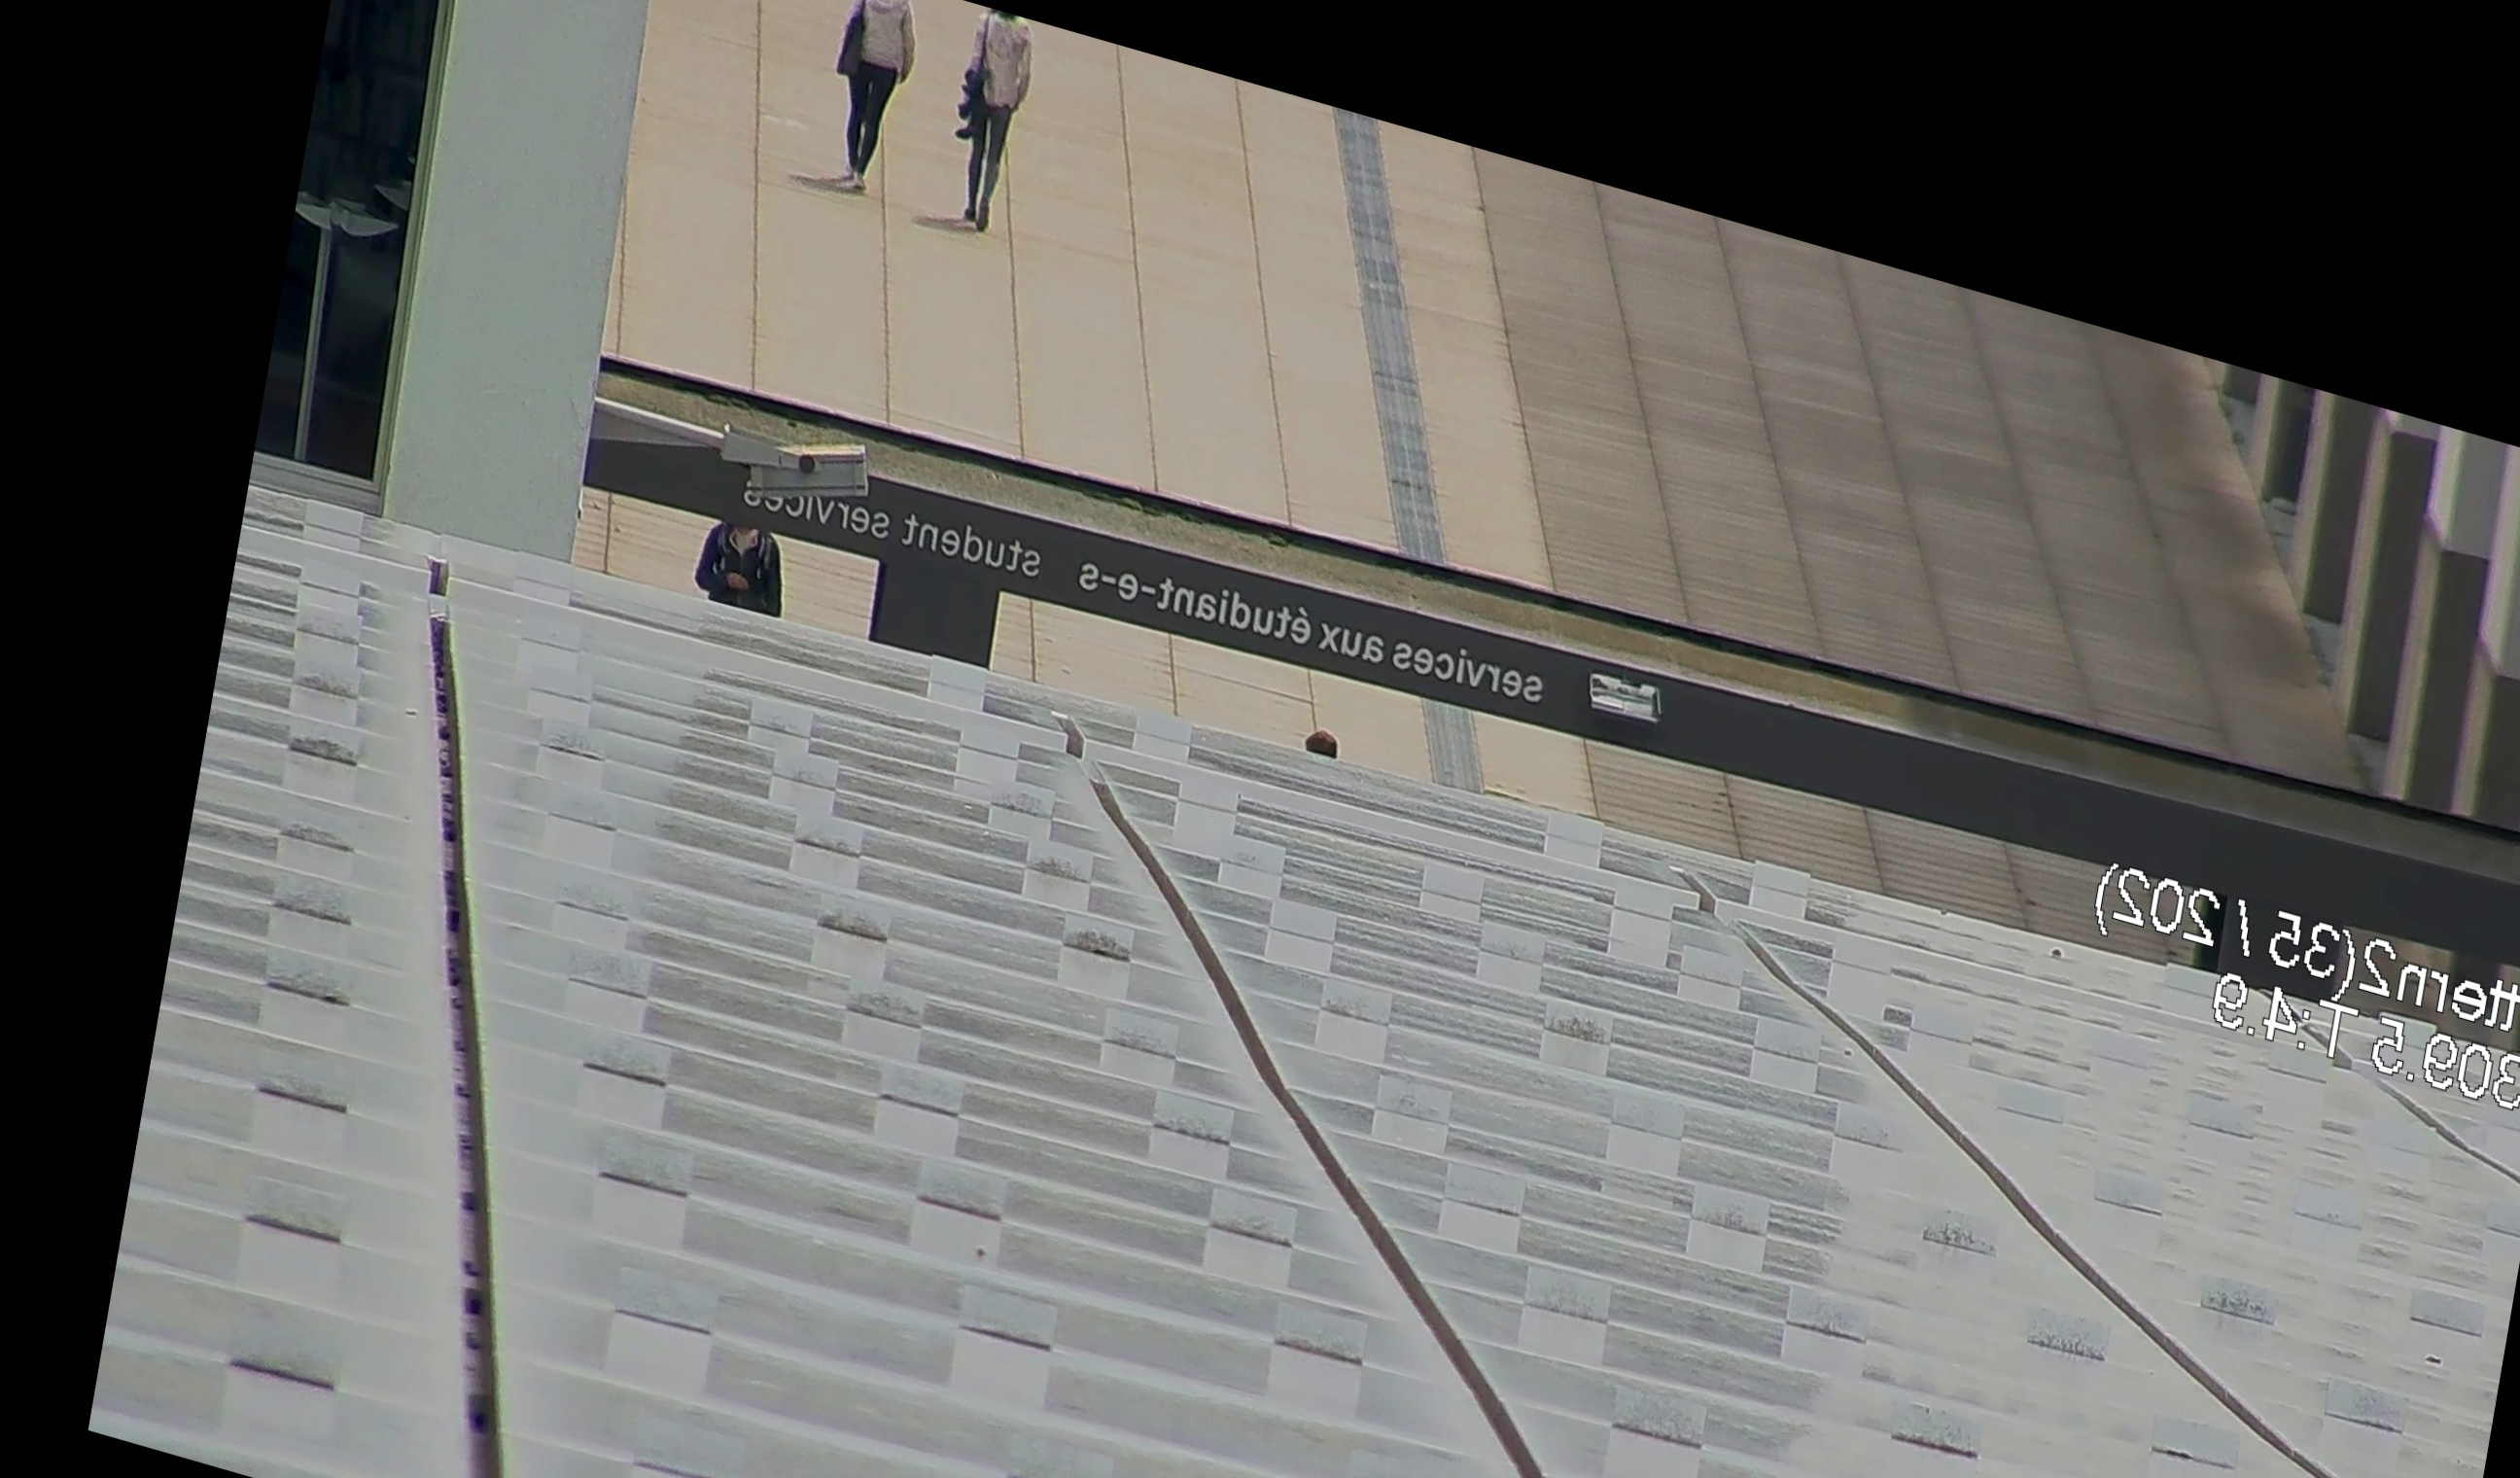Other: (686, 475, 807, 630)
